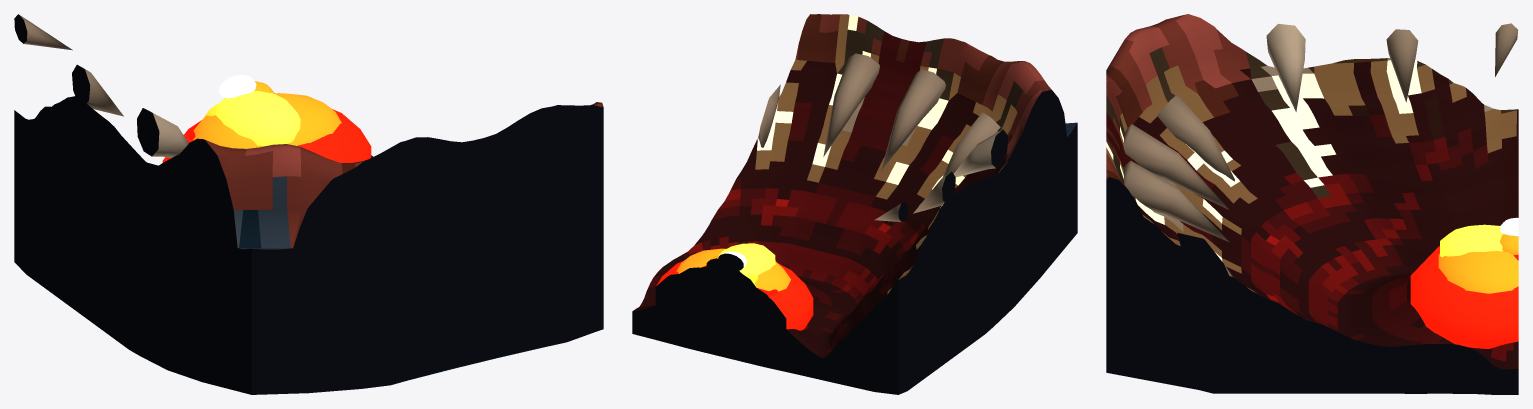
The model's file is newshn-157.glb.
3 views of the same model, side by side, from view 1: azimuth 30°, elevation 25°; view 2: azimuth 150°, elevation 25°; view 3: azimuth 270°, elevation 25° (orthographic). The views are drawn at different scales.
Parts seen in each view (by area): view 1: newshn-157, newshn-157-f279, newshn-157-f157; view 2: newshn-157, newshn-157-f157, newshn-157-f279, newshn-157-f271, newshn-157-f275, newshn-157-f267; view 3: newshn-157, newshn-157-f157, newshn-157-f279, newshn-157-f271.
Boxes of the visible parts, x1,y1,x2,y2 form: newshn-157: (14,96,603,394); newshn-157-f279: (80,74,371,162); newshn-157-f157: (14,14,188,157); newshn-157: (632,14,1077,394); newshn-157-f157: (758,53,1007,222); newshn-157-f279: (655,130,1007,350); newshn-157-f271: (682,173,953,325); newshn-157-f275: (675,183,948,333); newshn-157-f267: (699,206,906,306); newshn-157: (1106,14,1518,394); newshn-157-f157: (1123,23,1518,279); newshn-157-f279: (1410,217,1518,348); newshn-157-f271: (1185,234,1518,272).
Size of the model in its own units: 2 by 1.48 by 2.33.
